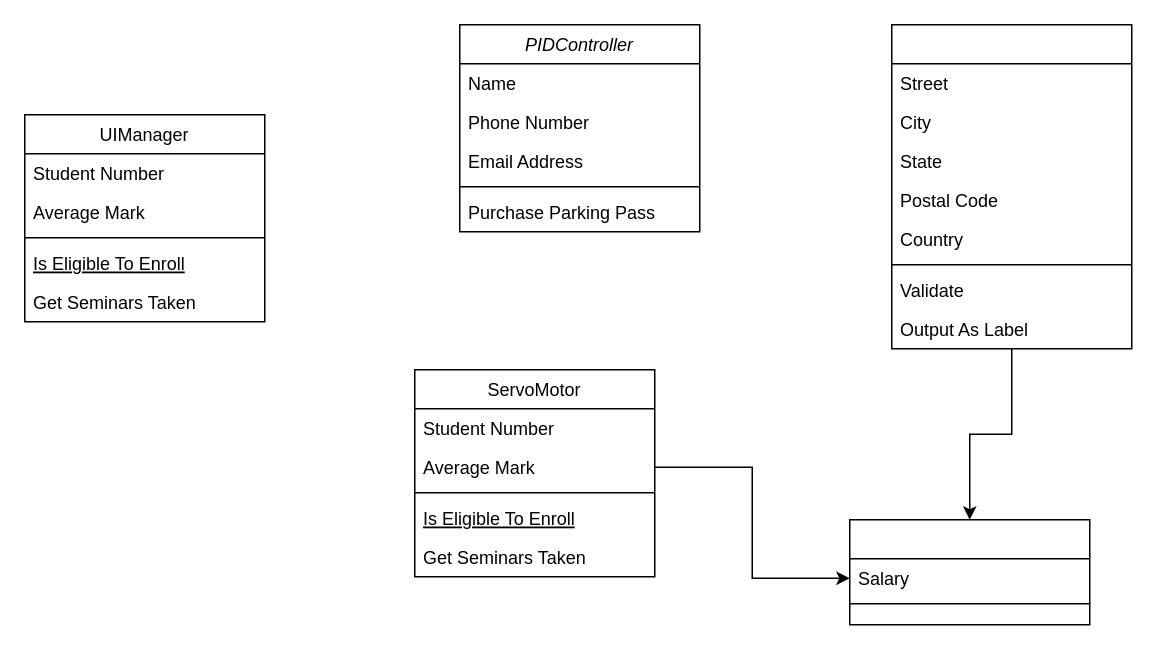
Image size: 1157x650. Some labels were removed from this diagram. Each missing label, with the box of its shape:
CarTimer: (848, 518, 1090, 625)
DistanceSensor: (890, 23, 1132, 349)
